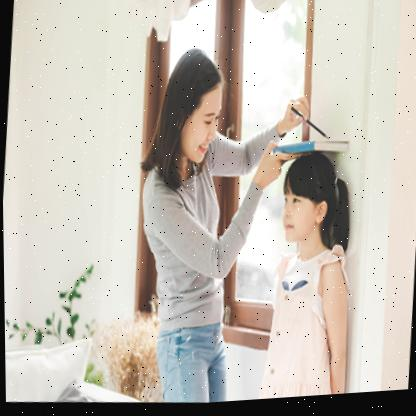person: (157, 43, 229, 190), (275, 142, 350, 254)
